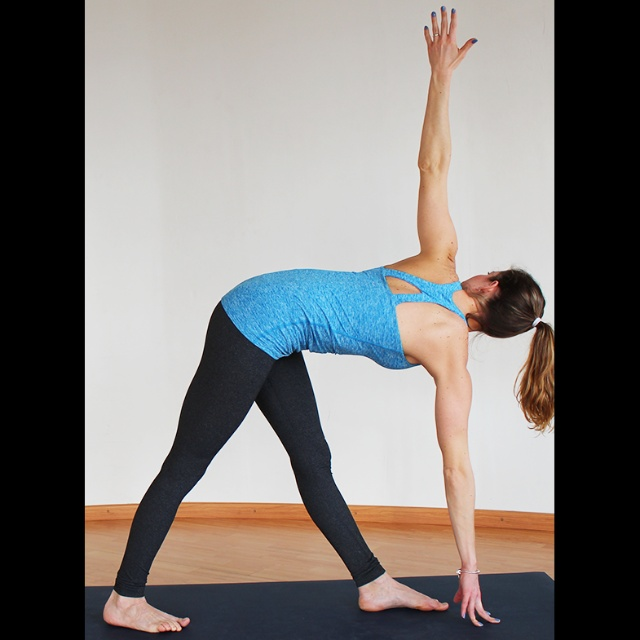Triangle_Pose: (88, 3, 555, 628)
